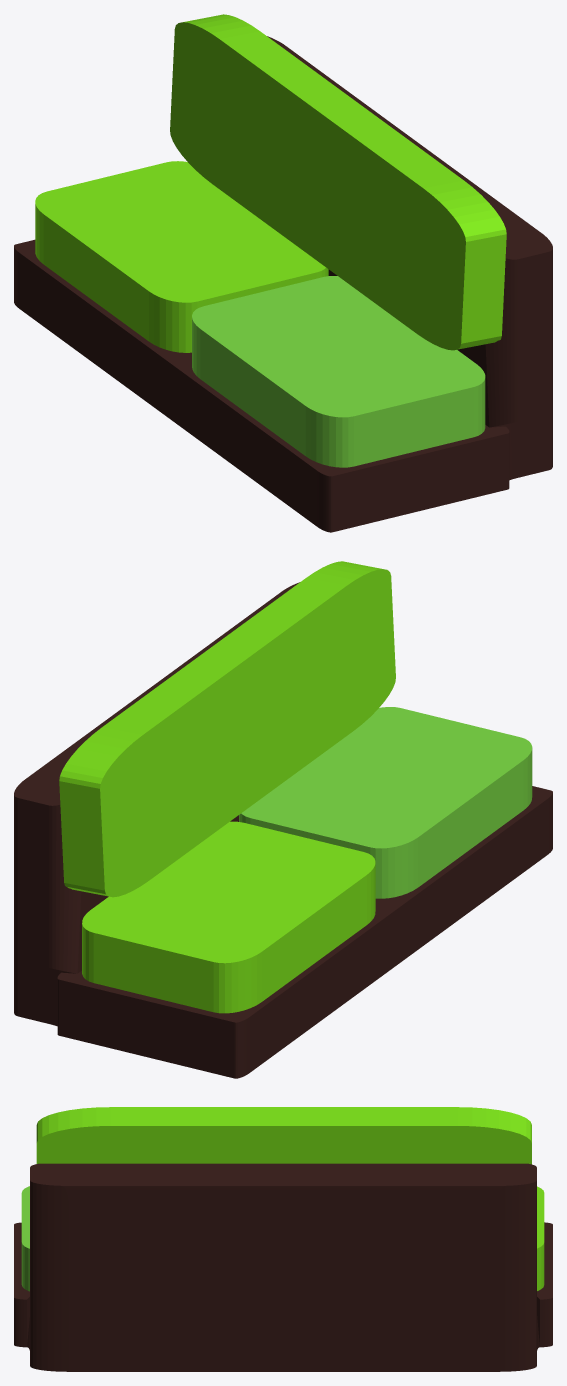
File: Djivannnn.fbx
The picture shows the model from 3 angles, top to bottom: view 1: azimuth 30°, elevation 25°; view 2: azimuth 150°, elevation 25°; view 3: azimuth 270°, elevation 25°; orthographic projection. The views are drawn at different scales.
Visible parts, largest first — view 1: Cube.004, Cube.001, Cube.003, Cube.002; view 2: Cube.004, Cube.001, Cube.002, Cube.003; view 3: Cube.001, Cube.004, Cube.003, Cube.002.
Boxes of the visible parts, x1,y1,x2,y2 form: Cube.004: (170,14,506,350); Cube.001: (14,36,552,532); Cube.003: (192,276,485,467); Cube.002: (35,161,328,352); Cube.004: (59,561,395,897); Cube.001: (14,582,552,1078); Cube.002: (82,821,375,1013); Cube.003: (239,707,532,898); Cube.001: (14,1163,552,1371); Cube.004: (36,1107,531,1164); Cube.003: (21,1186,29,1291); Cube.002: (537,1186,544,1290).
Size of the model in its own units: 322 by 334 by 720.
